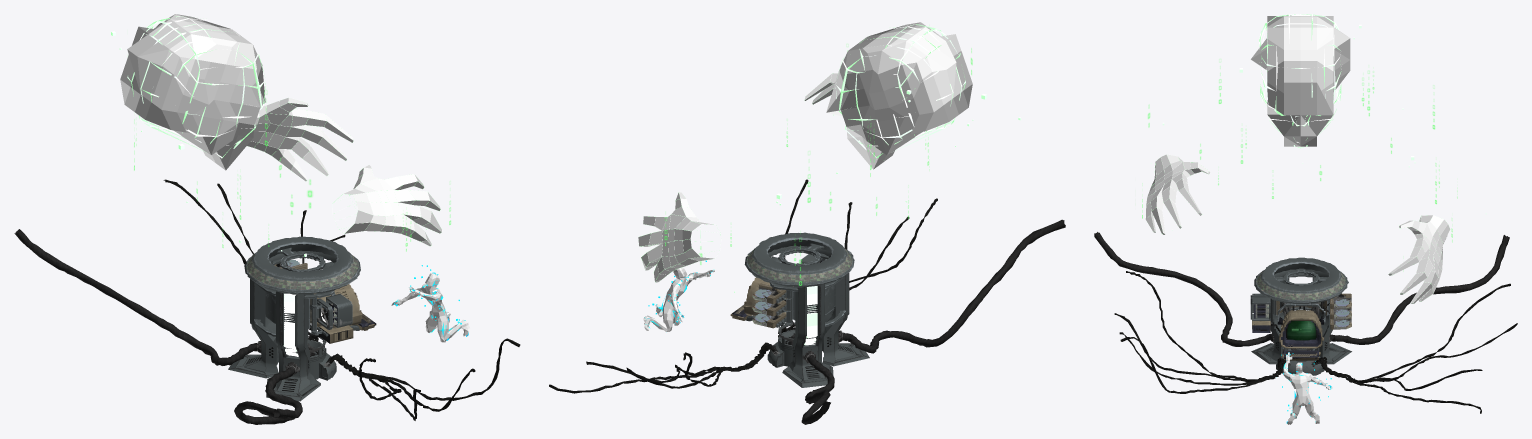
The model's file is cyber_djinn.glb.
3 renders of one model, left to right at view 1: azimuth 30°, elevation 25°; view 2: azimuth 150°, elevation 25°; view 3: azimuth 270°, elevation 25°, orthographic. The views are drawn at different scales.
Parts seen in each view (by area): view 1: head_base_96, Cube.044_4, Hand_r_92, Hand_l_93, top_base_10, BezierCurve.004_23, head_border_97, BezierCurve.003_22, human_base_15, Hand_r_b_94, podium_9, Hand_l_b_95 (+6 smaller); view 2: head_base_96, Cube.044_4, top_base_10, Hand_l_93, BezierCurve.003_22, head_border_97, human_base_15, BezierCurve.004_23, podium_9, back_radiator_87, Cylinder.045_6, BezierCurve.012_31 (+2 smaller); view 3: head_base_96, top_base_10, Hand_l_93, Hand_r_92, BezierCurve.003_22, Cube.044_4, BezierCurve.004_23, head_border_97, human_base_15, Cube_98, Plane_113, BezierCurve.009_28 (+9 smaller).
Boxes of the visible parts, left/top/right/bottom form: head_base_96: left=120, top=14, right=265, bottom=170; Cube.044_4: left=228, top=261, right=320, bottom=401; Hand_r_92: left=344, top=165, right=441, bottom=245; Hand_l_93: left=247, top=98, right=353, bottom=181; top_base_10: left=244, top=236, right=360, bottom=294; BezierCurve.004_23: left=14, top=229, right=257, bottom=365; head_border_97: left=127, top=16, right=265, bottom=158; BezierCurve.003_22: left=234, top=367, right=302, bottom=424; human_base_15: left=391, top=273, right=469, bottom=342; Hand_r_b_94: left=332, top=165, right=442, bottom=245; podium_9: left=307, top=332, right=336, bottom=380; Hand_l_b_95: left=247, top=97, right=353, bottom=181; head_base_96: left=826, top=22, right=972, bottom=169; Cube.044_4: left=782, top=255, right=869, bottom=387; top_base_10: left=744, top=232, right=854, bottom=287; Hand_l_93: left=638, top=192, right=713, bottom=282; BezierCurve.003_22: left=842, top=219, right=1065, bottom=353; head_border_97: left=835, top=24, right=965, bottom=159; human_base_15: left=643, top=267, right=714, bottom=331; BezierCurve.004_23: left=801, top=355, right=834, bottom=424; podium_9: left=767, top=322, right=795, bottom=367; back_radiator_87: left=804, top=286, right=817, bottom=345; Cylinder.045_6: left=770, top=253, right=845, bottom=326; BezierCurve.012_31: left=549, top=342, right=768, bottom=393; head_base_96: left=1251, top=15, right=1350, bottom=146; top_base_10: left=1254, top=257, right=1348, bottom=303; Hand_l_93: left=1388, top=215, right=1450, bottom=303; Hand_r_92: left=1145, top=154, right=1210, bottom=234; BezierCurve.003_22: left=1094, top=232, right=1273, bottom=346; Cube.044_4: left=1251, top=274, right=1351, bottom=364; BezierCurve.004_23: left=1329, top=235, right=1509, bottom=344; head_border_97: left=1259, top=14, right=1341, bottom=148; human_base_15: left=1283, top=352, right=1332, bottom=424; Cube_98: left=1279, top=310, right=1323, bottom=348; Plane_113: left=1286, top=321, right=1316, bottom=340; BezierCurve.009_28: left=1322, top=283, right=1510, bottom=380.
Size of what is drawn, in the model's own units: 21.43 by 23.44 by 29.83.
Materials: 12 (6 with a texture image).
